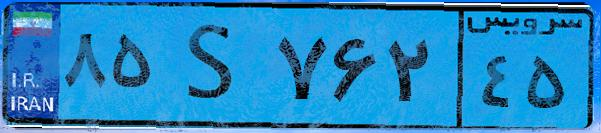2: (385, 28, 445, 110)
4: (475, 38, 525, 113)
5: (525, 38, 570, 115), (110, 28, 158, 98)
6: (330, 28, 385, 110)
7: (270, 28, 330, 110)
8: (57, 26, 110, 100)
S: (158, 12, 270, 120)
